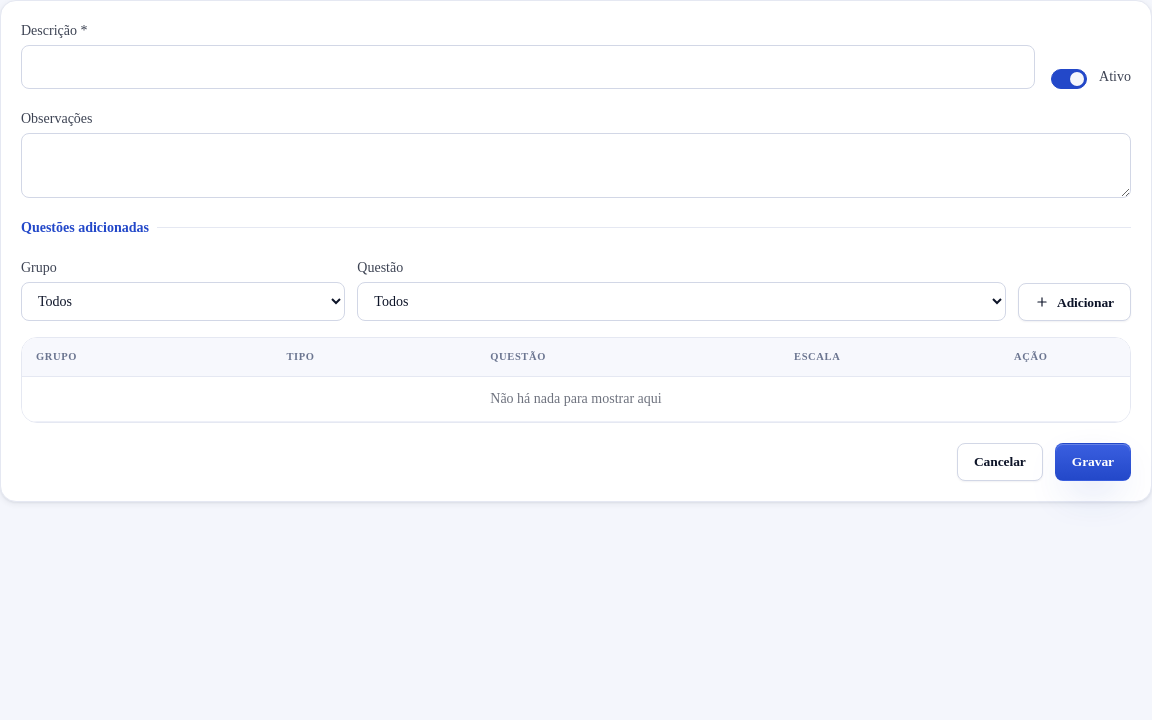
QuestionarioForm › escala padrão inativa não é pré-preenchida
Select "CORPO" in the dropdown labelled "Grupo" at (183, 302), box [21,282,345,321]
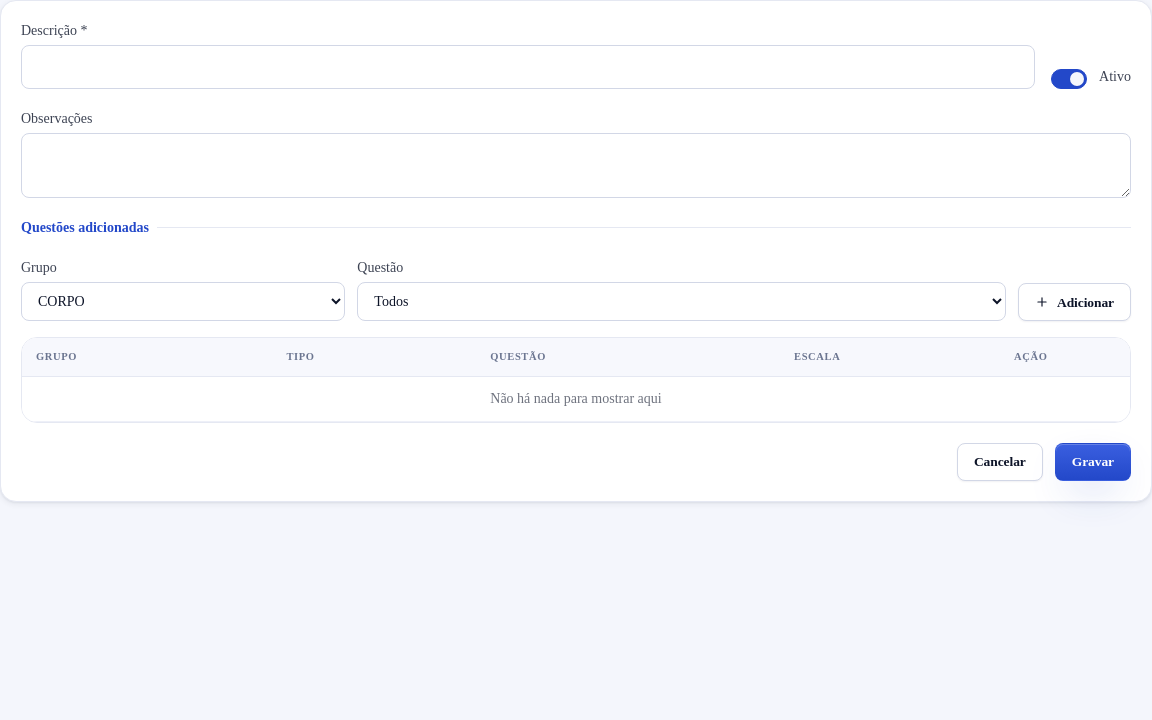
Click the button "Adicionar" at (1074, 302), box [1018,283,1131,321]
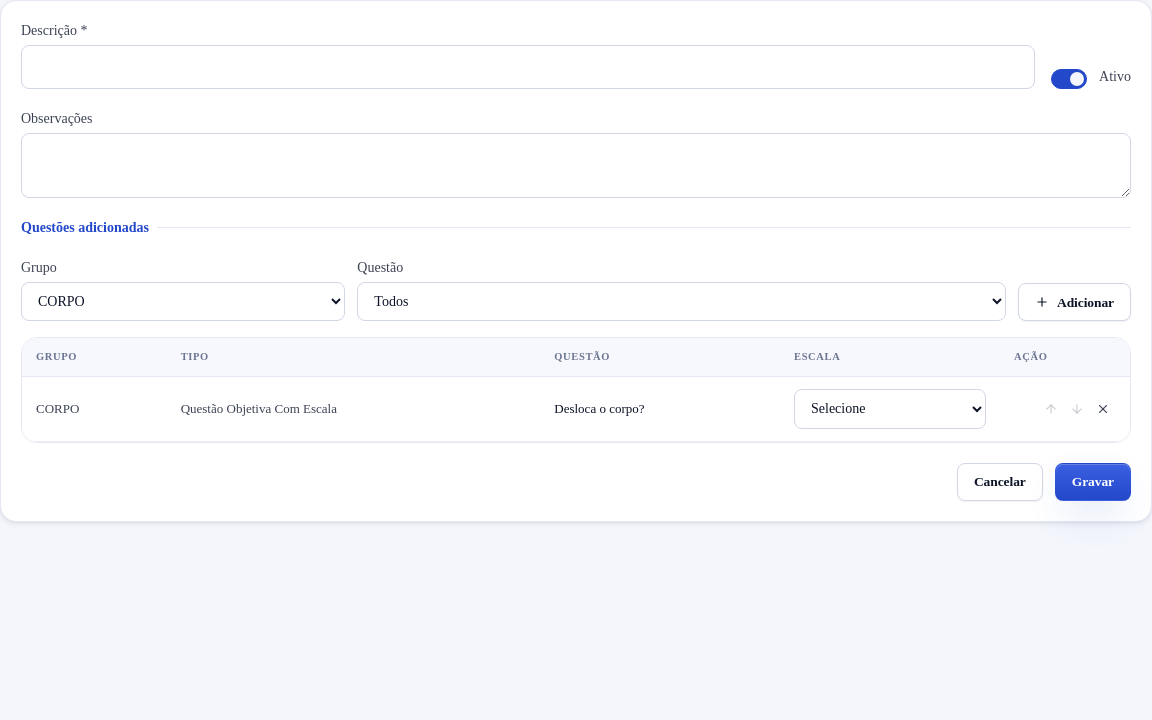
Check: the dropdown named "Escala de Desloca o corpo?" shows "Selecione", box [794,389,986,429]
